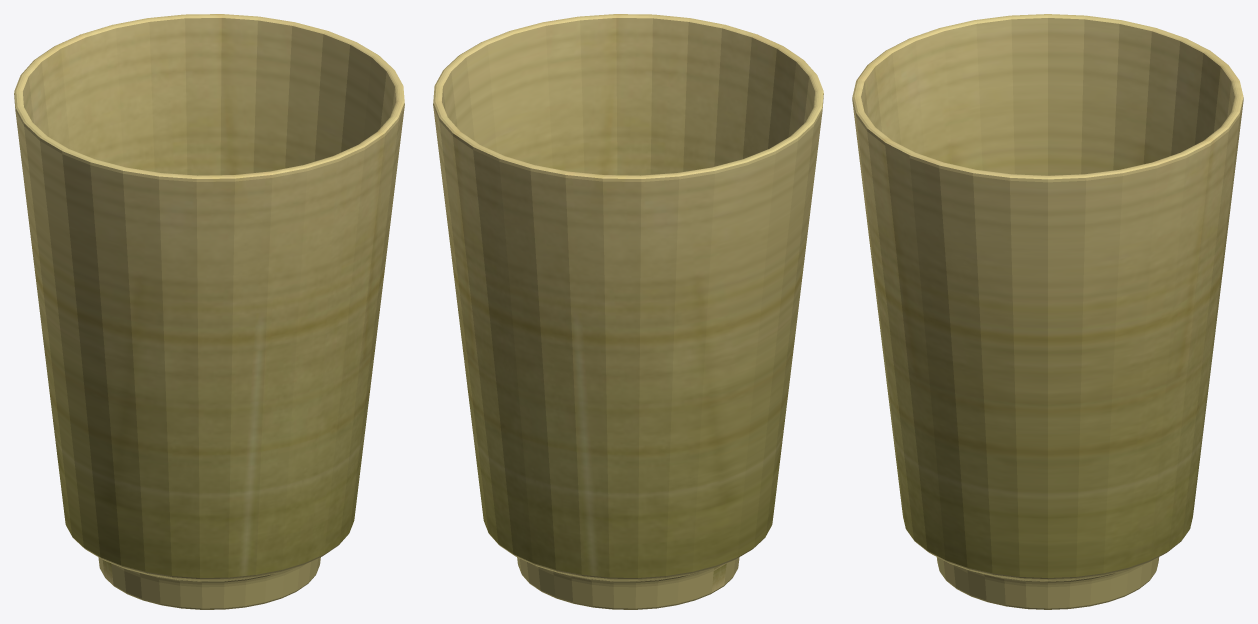
The model's file is sweethome3d-scopia-vase-40.glb.
3 renders of one model, left to right at view 1: azimuth 30°, elevation 25°; view 2: azimuth 150°, elevation 25°; view 3: azimuth 270°, elevation 25°, orthographic.
Parts seen in each view (by area): view 1: vase_Mesh.002; view 2: vase_Mesh.002; view 3: vase_Mesh.002.
Part boxes in pixels (left/top/right/bottom): vase_Mesh.002: left=14, top=14, right=404, bottom=609; vase_Mesh.002: left=433, top=14, right=823, bottom=609; vase_Mesh.002: left=852, top=14, right=1243, bottom=609.
Bounding box in the file's own units: 1.44 × 1.9 × 1.44.
2 materials, 2 textured.
